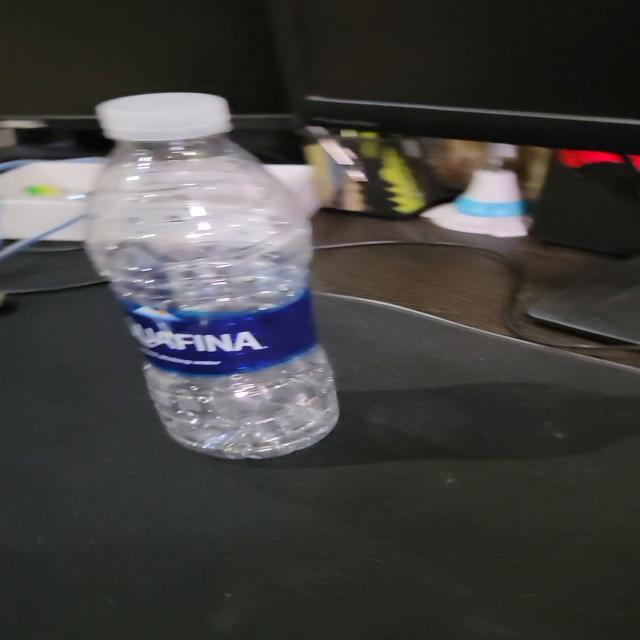Anorganik: (79, 87, 352, 464)
